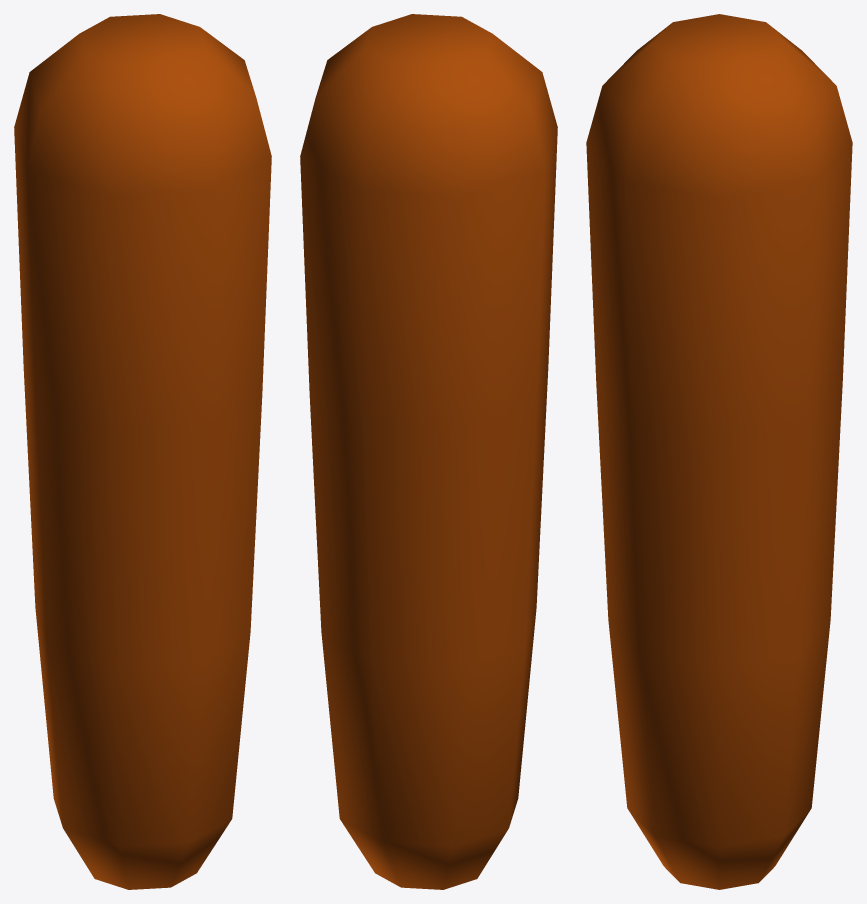
The model's file is stick.glb.
The picture shows the model from 3 angles, left to right: view 1: azimuth 30°, elevation 25°; view 2: azimuth 150°, elevation 25°; view 3: azimuth 270°, elevation 25°; orthographic projection.
Visible parts, largest first — view 1: stick; view 2: stick; view 3: stick.
Part boxes in pixels (x1,y1,x2,y2): stick: [14, 14, 271, 889]; stick: [300, 14, 557, 889]; stick: [586, 14, 852, 889].
Size of what is drawn, in the model's own units: 0.3718 by 1.27 by 0.3718.
